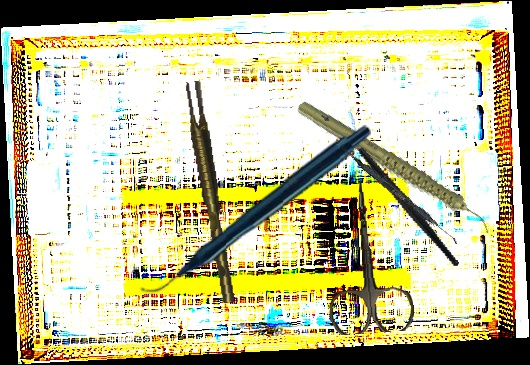Chopper: (332, 105, 460, 290)
Handpiece: (294, 66, 494, 271), (135, 124, 374, 295)
Iris Scissors: (319, 177, 416, 336)
Spatula Surgical: (336, 144, 462, 245)
Tissue Forceps: (184, 79, 235, 305)
